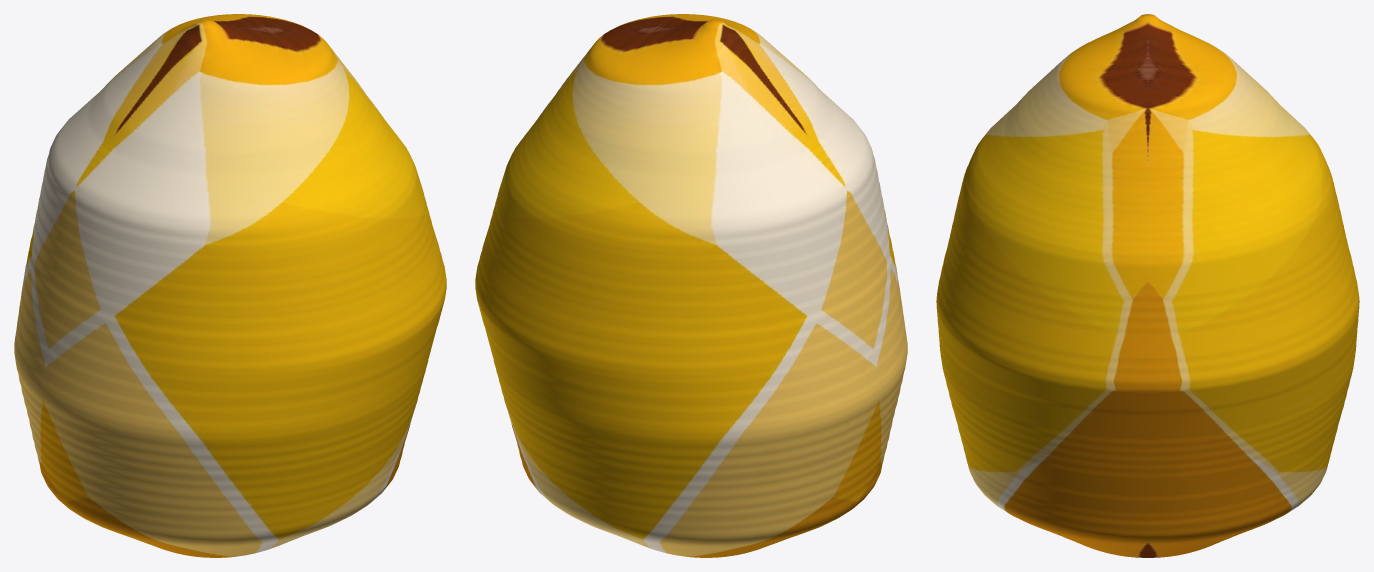
The model's file is amber_crystal.glb.
3 views of the same model, side by side, from view 1: azimuth 30°, elevation 25°; view 2: azimuth 150°, elevation 25°; view 3: azimuth 270°, elevation 25° (orthographic).
Parts seen in each view (by area): view 1: amber_crystal; view 2: amber_crystal; view 3: amber_crystal.
Boxes of the visible parts, left/top/right/bottom form: amber_crystal: left=14, top=14, right=446, bottom=557; amber_crystal: left=475, top=14, right=907, bottom=557; amber_crystal: left=936, top=14, right=1359, bottom=557.
Bounding box in the file's own units: 0.9948 × 1.33 × 0.9714.
1 material, 1 textured.
